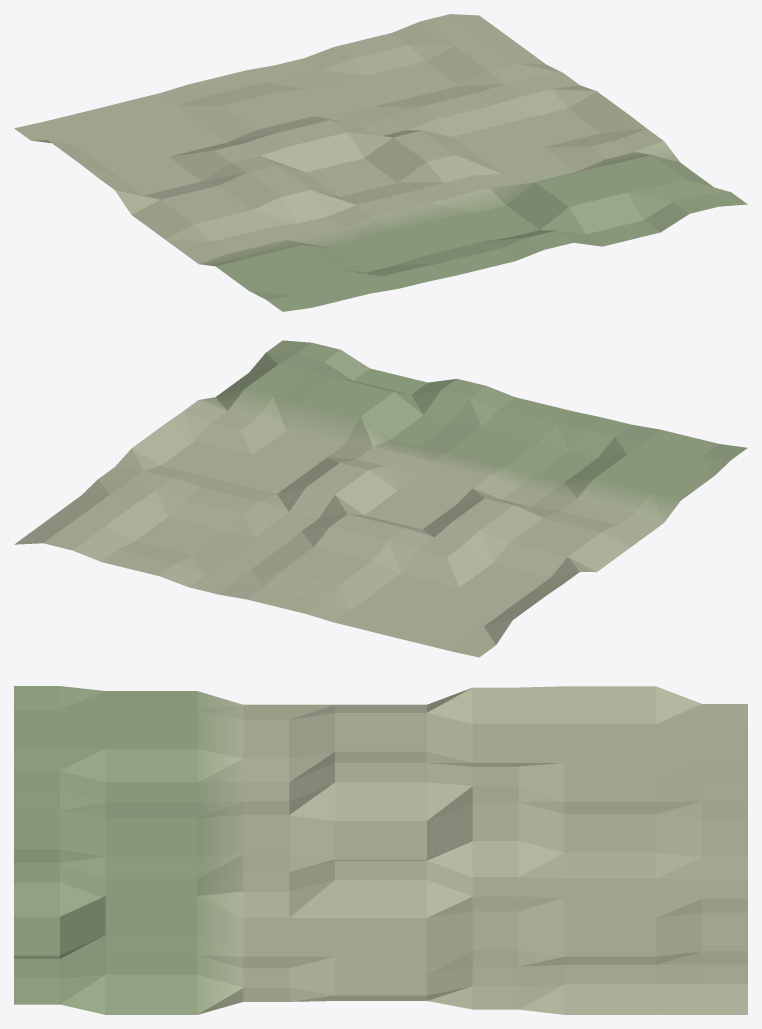
3 views of the same model, one above another, from view 1: azimuth 30°, elevation 25°; view 2: azimuth 150°, elevation 25°; view 3: azimuth 270°, elevation 25° (orthographic). The views are drawn at different scales.
Size of the model in its own units: 32 by 1.06 by 32.
